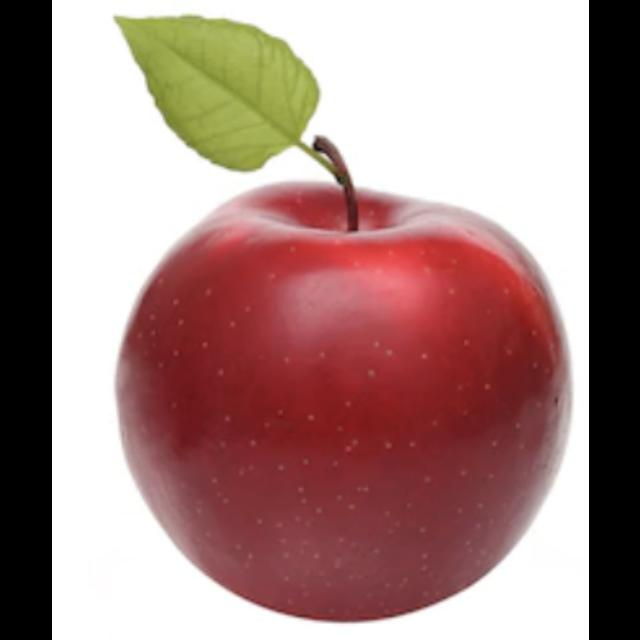Apel Segar: (112, 180, 574, 625)
